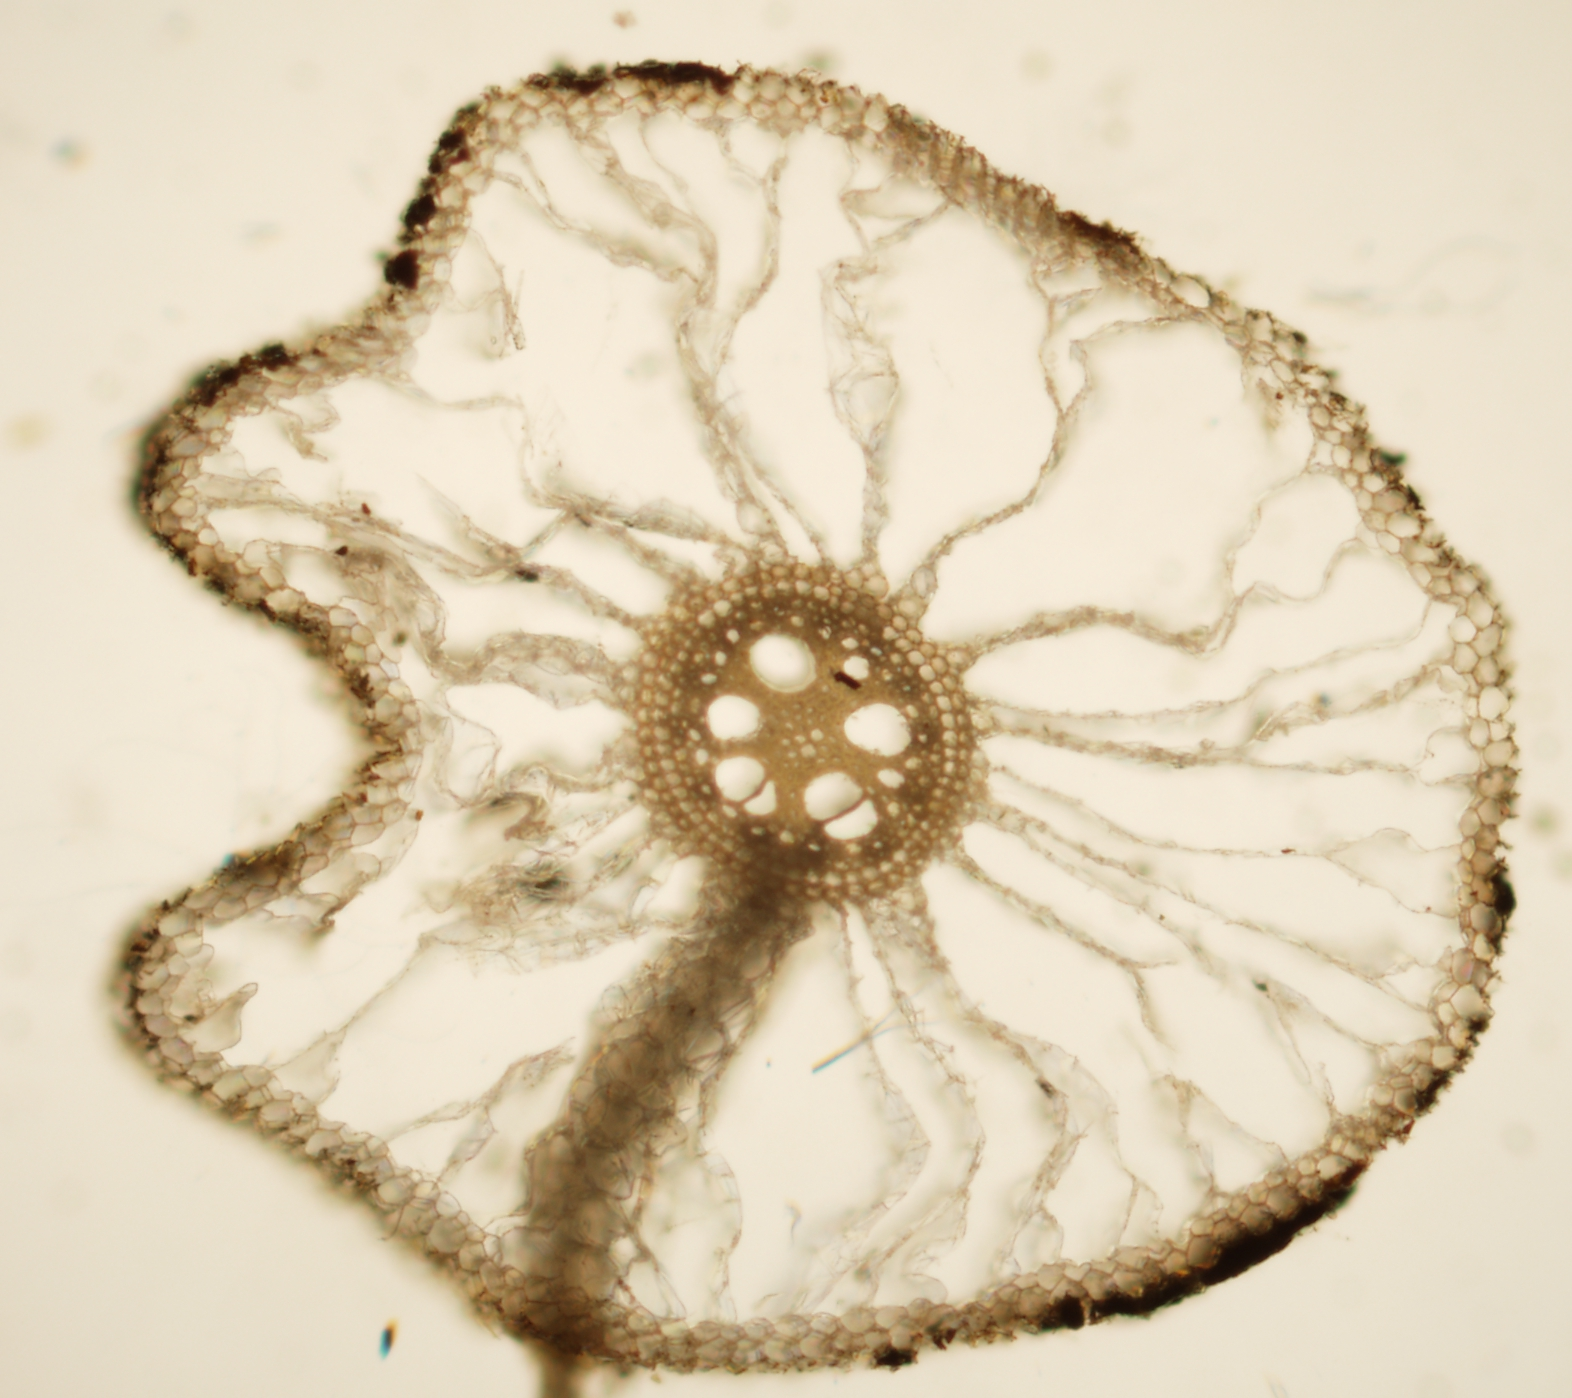lm: (804, 771, 878, 839), (749, 632, 816, 694), (714, 754, 776, 814), (843, 703, 911, 757), (707, 695, 760, 739)
